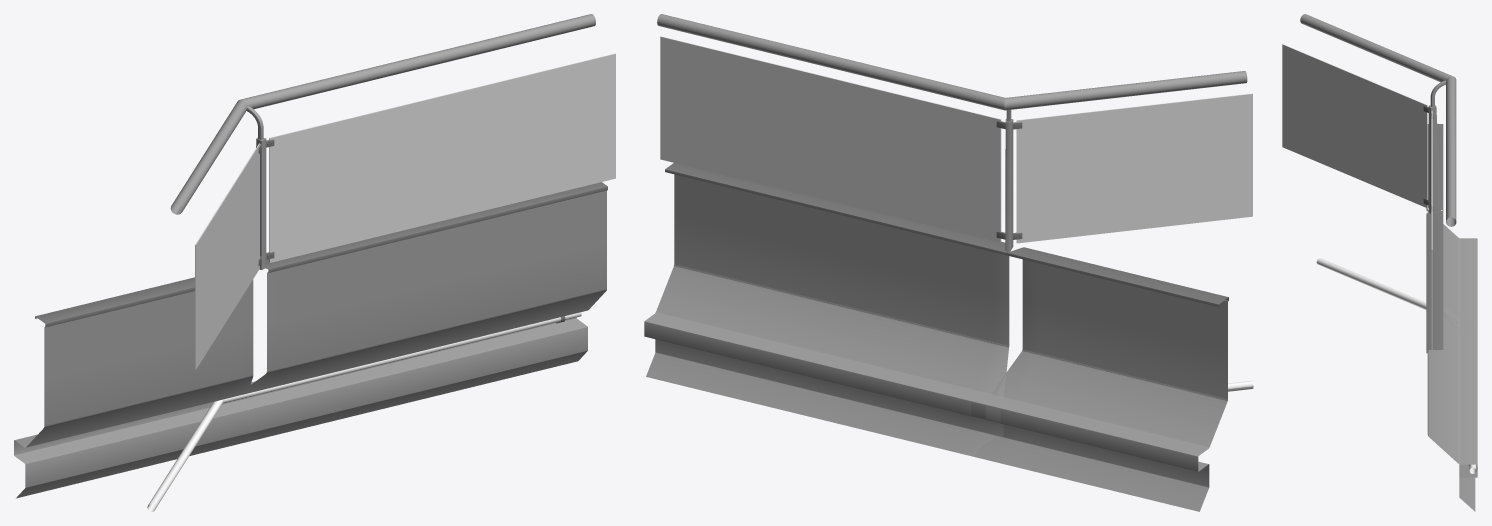
The model's file is SM_Balcony45_LeftTop.fbx.
3 renders of one model, left to right at view 1: azimuth 30°, elevation 25°; view 2: azimuth 150°, elevation 25°; view 3: azimuth 270°, elevation 25°, orthographic. The views are drawn at different scales.
Parts seen in each view (by area): view 1: Balcony_LeftTopCorner, Glass_LeftTopCorner, Balcony_LeftTopCorner2, Railing_LeftTopCorner, EnergyTube_leftTopCorner, RailingSupport_LeftTopCorner; view 2: Balcony_LeftTopCorner, Glass_LeftTopCorner, Balcony_LeftTopCorner2, Railing_LeftTopCorner, RailingSupport_LeftTopCorner; view 3: Glass_LeftTopCorner, Balcony_LeftTopCorner, Balcony_LeftTopCorner2, Railing_LeftTopCorner, RailingSupport_LeftTopCorner, EnergyTube_leftTopCorner.
Part boxes in pixels (bbox=[...]): Balcony_LeftTopCorner: bbox=[218, 182, 607, 448]; Glass_LeftTopCorner: bbox=[195, 53, 615, 369]; Balcony_LeftTopCorner2: bbox=[14, 277, 253, 498]; Railing_LeftTopCorner: bbox=[170, 14, 595, 214]; EnergyTube_leftTopCorner: bbox=[147, 312, 581, 511]; RailingSupport_LeftTopCorner: bbox=[246, 105, 274, 269]; Balcony_LeftTopCorner: bbox=[644, 163, 1009, 456]; Glass_LeftTopCorner: bbox=[660, 36, 1252, 243]; Balcony_LeftTopCorner2: bbox=[971, 247, 1228, 511]; Railing_LeftTopCorner: bbox=[657, 14, 1247, 110]; RailingSupport_LeftTopCorner: bbox=[996, 110, 1022, 251]; Glass_LeftTopCorner: bbox=[1282, 44, 1432, 352]; Balcony_LeftTopCorner: bbox=[1426, 210, 1477, 511]; Balcony_LeftTopCorner2: bbox=[1426, 124, 1477, 330]; Railing_LeftTopCorner: bbox=[1300, 14, 1456, 226]; RailingSupport_LeftTopCorner: bbox=[1423, 80, 1446, 213]; EnergyTube_leftTopCorner: bbox=[1316, 258, 1476, 473].
Bounding box in the file's own units: 496 × 295 × 178.
